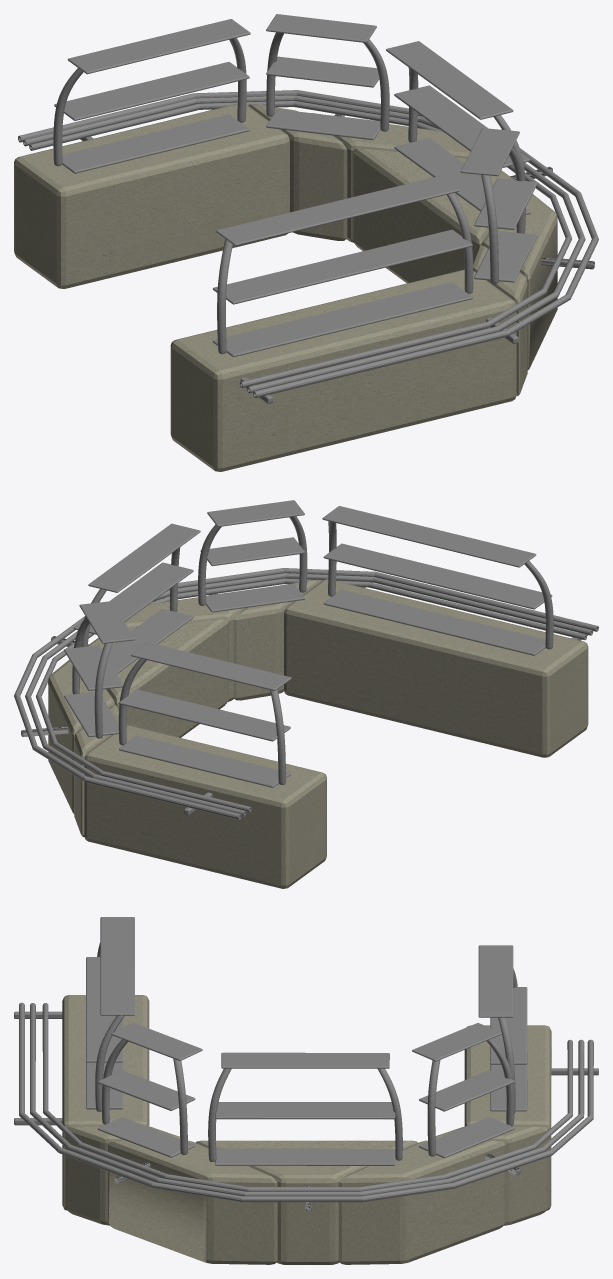
The model's file is sank_novi.fbx.
3 renders of one model, top to bottom at view 1: azimuth 30°, elevation 25°; view 2: azimuth 150°, elevation 25°; view 3: azimuth 270°, elevation 25°, orthographic. The views are drawn at different scales.
Visible parts, largest first — view 1: Cube.007; view 2: Cube.007; view 3: Cube.007.
Part boxes in pixels (box(x1,y1,x2,y2)): Cube.007: box(14, 14, 598, 471); Cube.007: box(14, 500, 598, 888); Cube.007: box(14, 917, 598, 1264).
Bounding box in the file's own units: 394 × 164 × 475.
2 materials, 1 textured.
